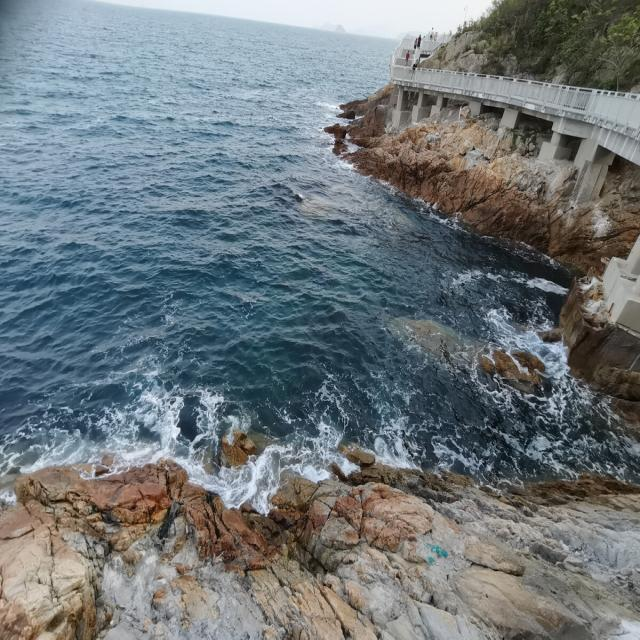reef: (342, 76, 588, 276)
